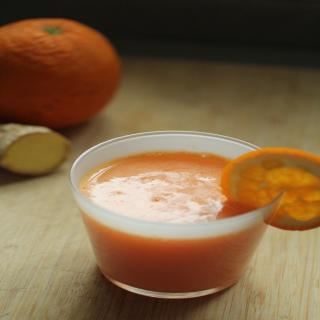Orange: (0, 15, 126, 126), (216, 148, 320, 233)
